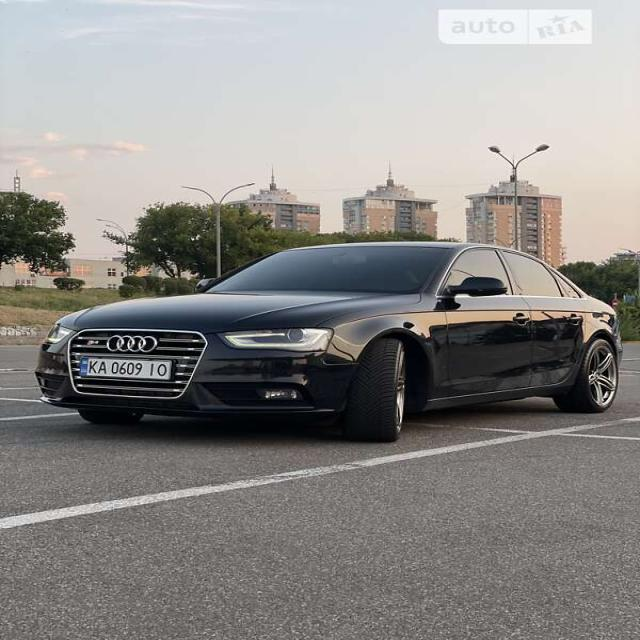plate: (74, 352, 182, 388)
